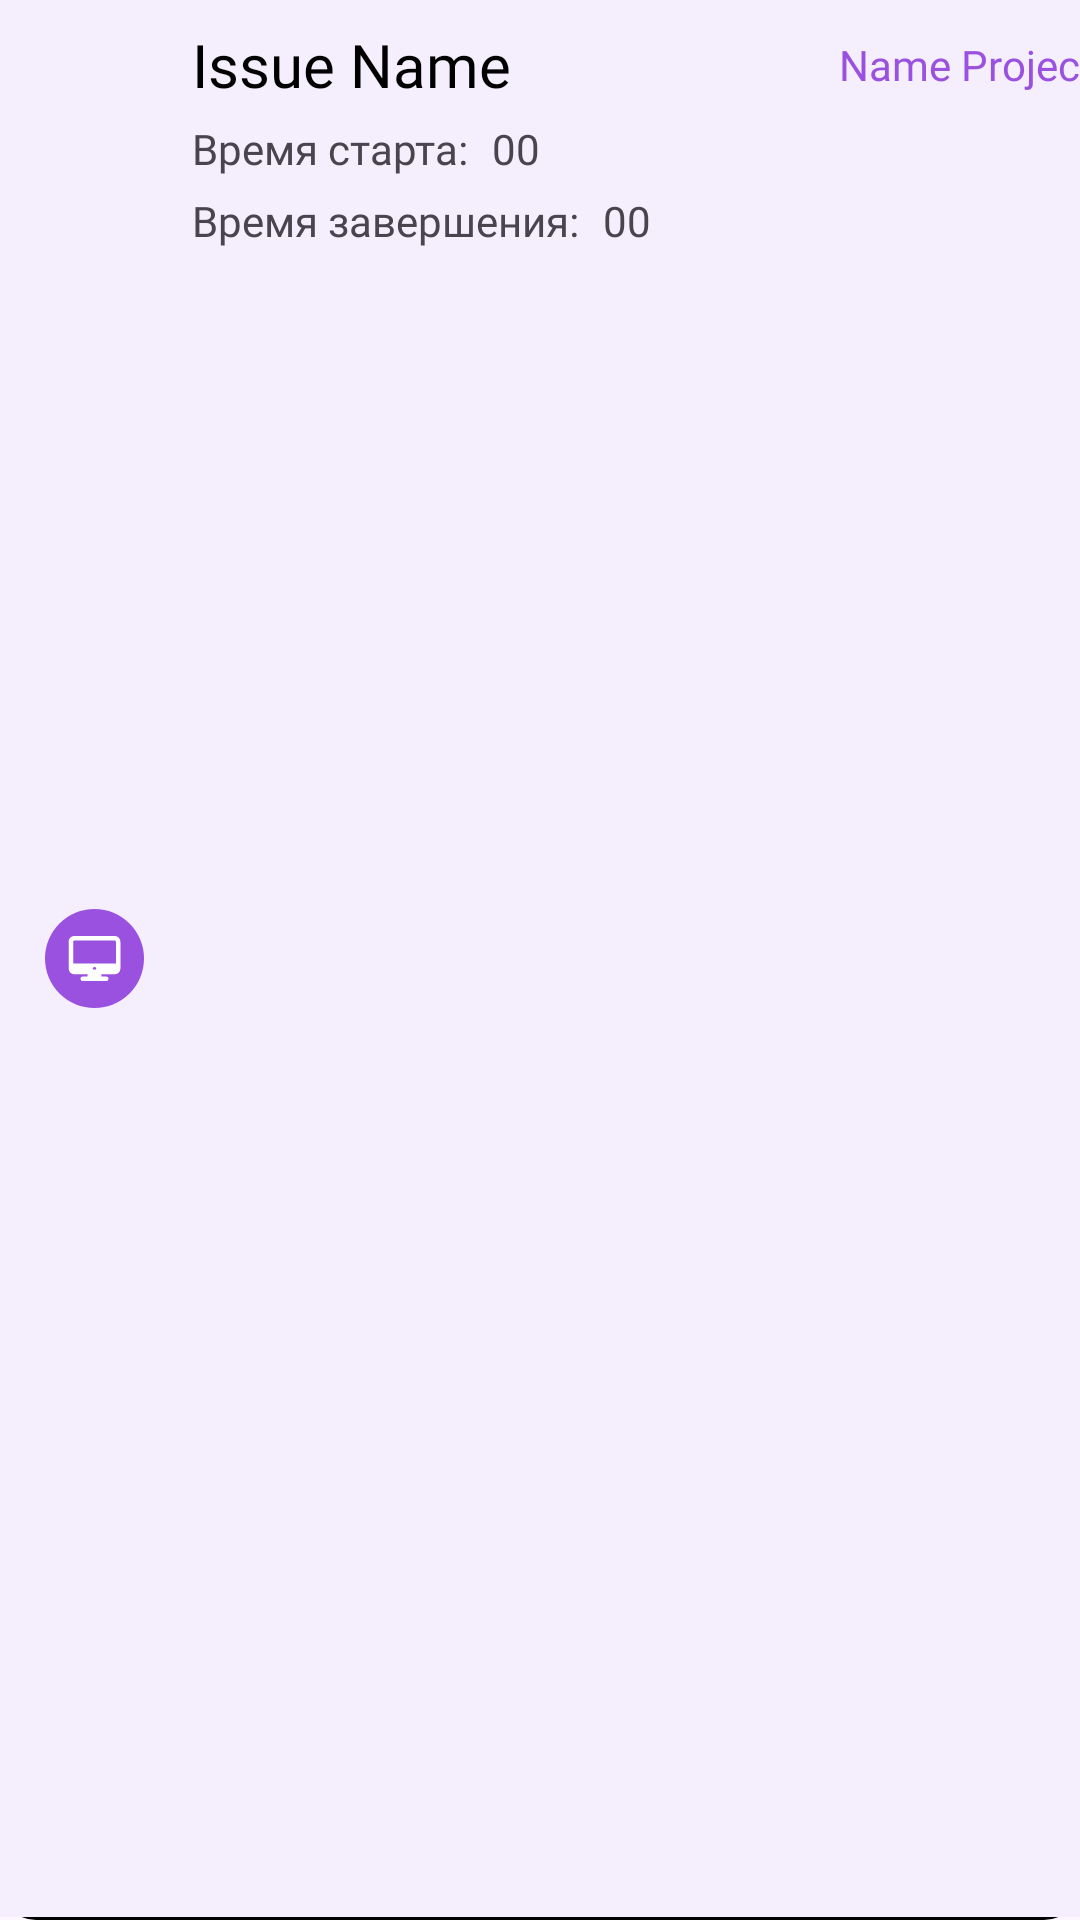

Icon bounding boxes for this 1080x1920 phone screenshot, format (x1, y1, x2, y2):
monitor circle: (45, 909, 144, 1008)
